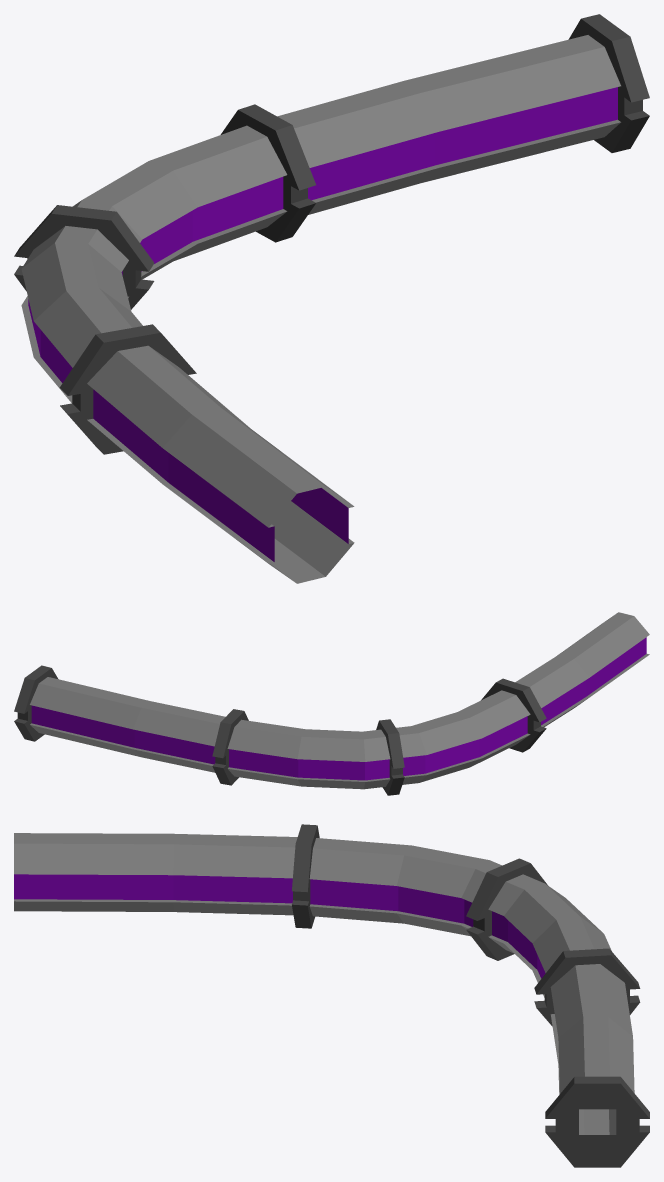
File: KF_Train_Rail_Curved.fbx
3 renders of one model, top to bottom at view 1: azimuth 30°, elevation 25°; view 2: azimuth 150°, elevation 25°; view 3: azimuth 270°, elevation 25°, orthographic. The views are drawn at different scales.
Parts seen in each view (by area): view 1: KF_Train_Rail_Curved; view 2: KF_Train_Rail_Curved; view 3: KF_Train_Rail_Curved.
Boxes of the visible parts, x1,y1,x2,y2 form: KF_Train_Rail_Curved: (14,14,649,583); KF_Train_Rail_Curved: (14,612,649,795); KF_Train_Rail_Curved: (14,824,649,1167).
Size of the model in its own units: 2152 by 311 by 2130.
